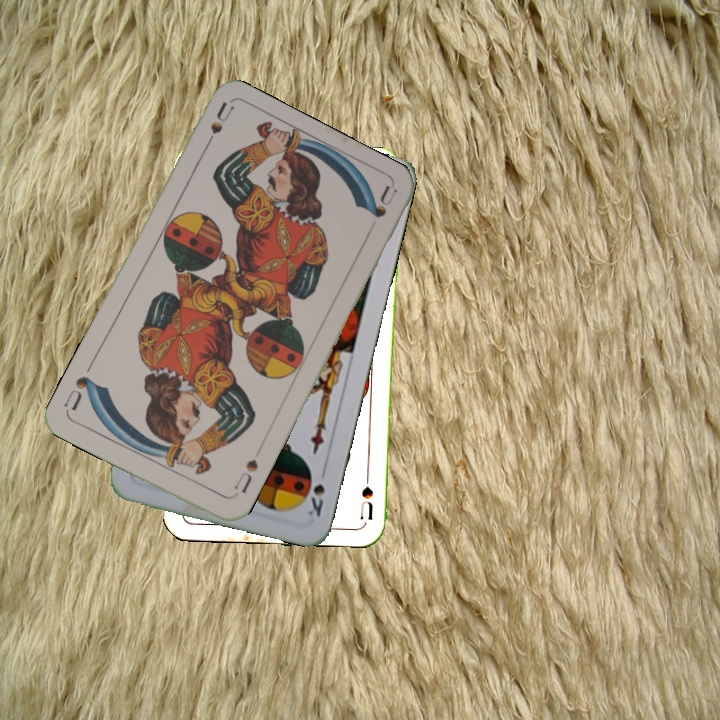SK: (302, 466, 328, 520)
SU: (198, 100, 235, 156), (229, 455, 261, 500), (357, 462, 376, 521)
